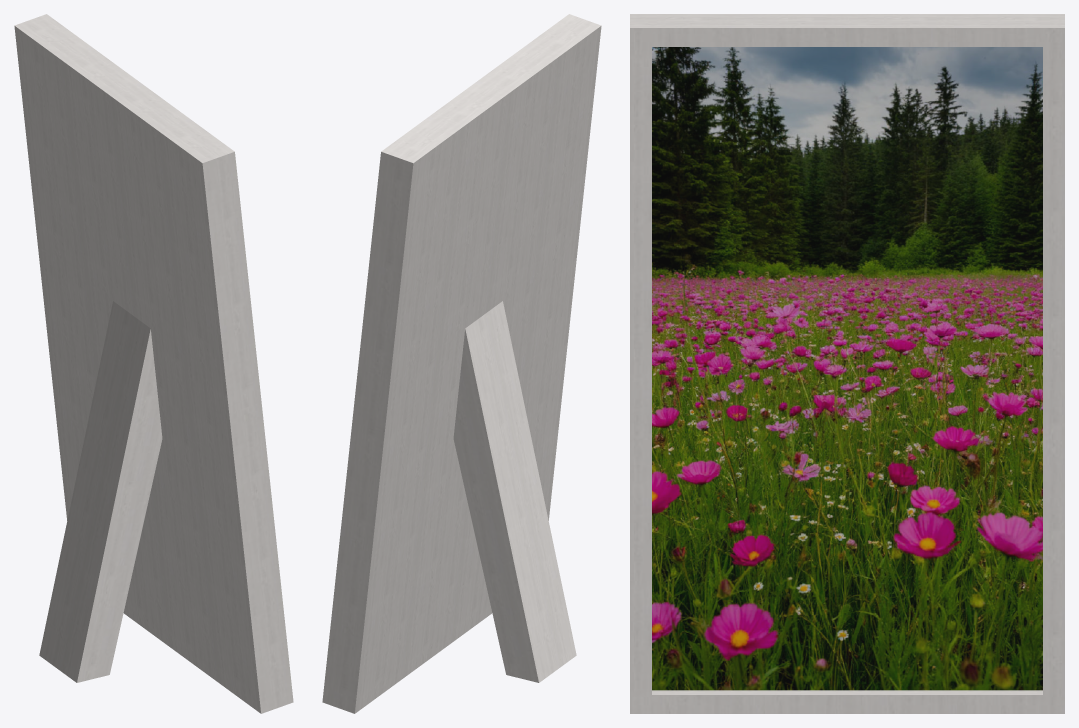
Rendered from photo_frame.fbx.
3 renders of one model, left to right at view 1: azimuth 30°, elevation 25°; view 2: azimuth 150°, elevation 25°; view 3: azimuth 270°, elevation 25°, orthographic. The views are drawn at different scales.
Visible parts, largest first — view 1: photo_frame; view 2: photo_frame; view 3: photo_frame.
Part boxes in pixels (x1=…): photo_frame: x1=14, y1=14, x2=293, y2=713; photo_frame: x1=322, y1=14, x2=601, y2=713; photo_frame: x1=630, y1=14, x2=1064, y2=713.
Size of the model in its own units: 6.51 by 25.02 by 15.
2 materials, 2 textured.
